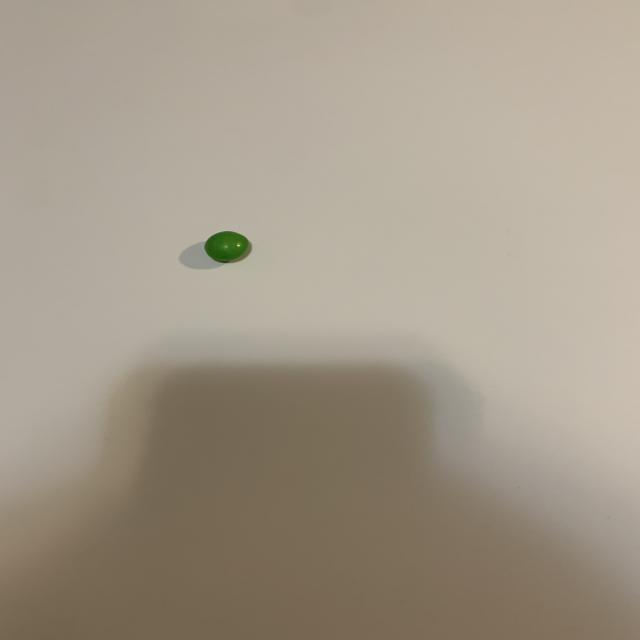smartie: (204, 231, 248, 262)
